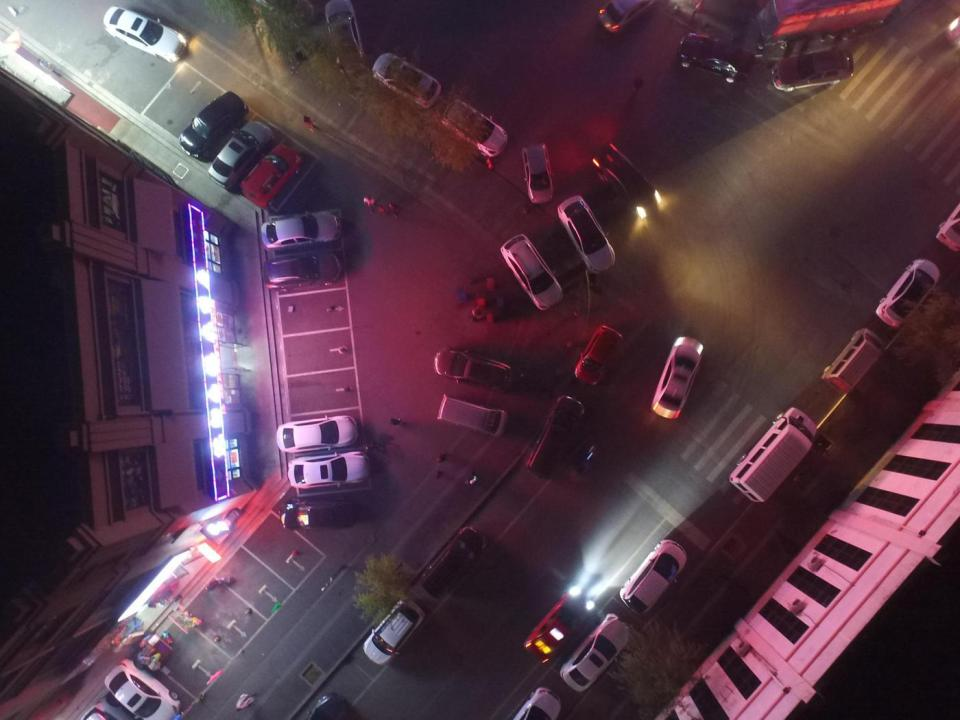car: (560, 612, 632, 692), (524, 587, 596, 662), (592, 143, 661, 218), (619, 540, 688, 614), (500, 234, 564, 310), (206, 120, 274, 189), (103, 6, 186, 62), (104, 660, 180, 720), (179, 92, 248, 158), (558, 195, 615, 273), (651, 337, 703, 419), (363, 598, 424, 664), (678, 32, 754, 82), (242, 144, 302, 207), (442, 99, 508, 156), (371, 53, 440, 107), (772, 49, 854, 92), (434, 347, 512, 391), (287, 451, 371, 490), (261, 211, 340, 252), (276, 415, 358, 453), (574, 324, 624, 386), (262, 253, 341, 291), (325, 1, 365, 71), (280, 500, 356, 533), (522, 142, 553, 204), (599, 0, 656, 32), (510, 687, 560, 720), (306, 692, 351, 720), (936, 201, 960, 252)
truck: (757, 0, 903, 45)
van: (727, 407, 817, 502), (525, 396, 584, 479), (418, 526, 484, 598), (875, 258, 940, 328), (820, 328, 883, 394), (437, 394, 507, 437)
